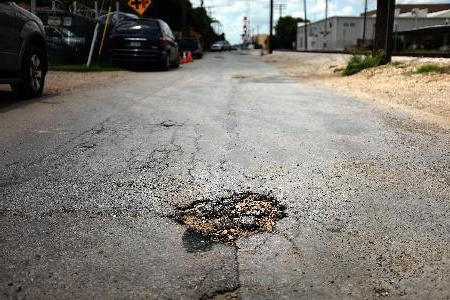pothole: (169, 190, 288, 243), (198, 282, 243, 300)
